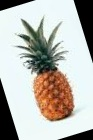Pineapple: (15, 16, 80, 121)
